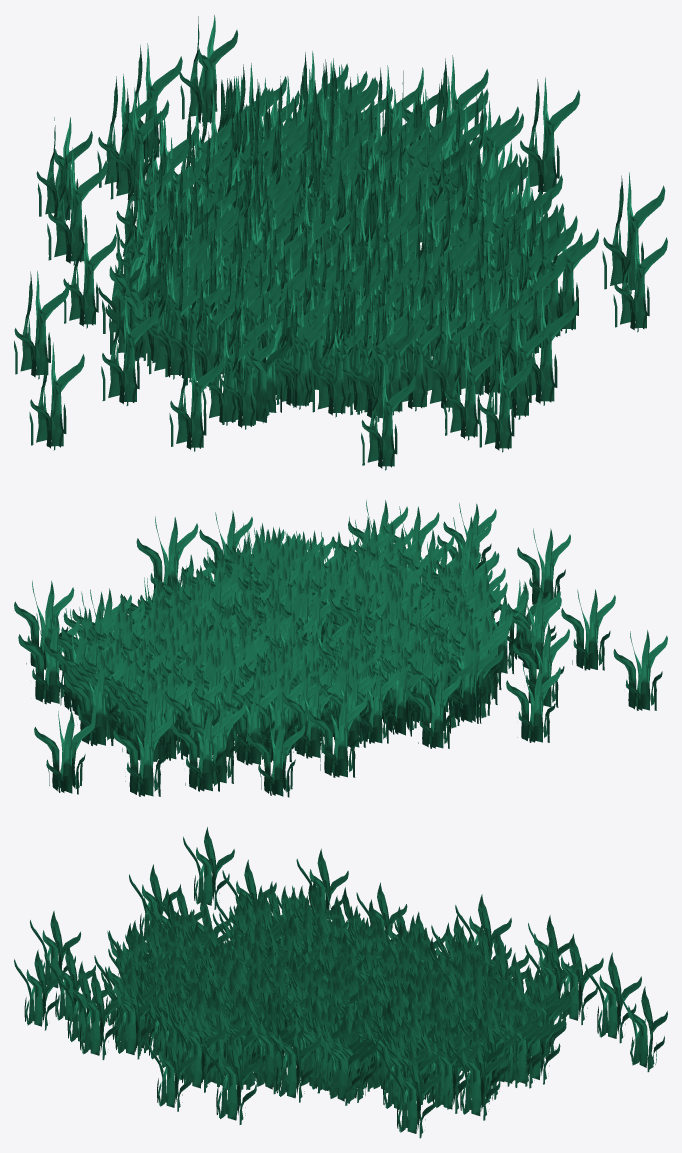
File: Grass1.fbx
The picture shows the model from 3 angles, top to bottom: view 1: azimuth 30°, elevation 25°; view 2: azimuth 150°, elevation 25°; view 3: azimuth 270°, elevation 25°; orthographic projection. The views are drawn at different scales.
Parts seen in each view (by area): view 1: single.11157, single.11336, single.10891, single.11315, single.11017, single.10773, single.11255, single.11092, single.10879, single.11090, single.10761, single.11109 (+56 smaller); view 2: single.11271, single.11157, single.11150, single.11315, single.10943, single.11156, single.11332, single.10879, single.11092, single.10773, single.10829, single.10827 (+50 smaller); view 3: single.11017, single.11332, single.11336, single.11255, single.11271, single.10982, single.10803, single.11150, single.10821, single.10773, single.11116, single.11315 (+45 smaller).
Part boxes in pixels (x1,y1,x2,y2): single.11157: (47, 147, 107, 265); single.11336: (519, 77, 580, 194); single.10891: (101, 294, 159, 405); single.11315: (179, 15, 238, 126); single.11017: (602, 172, 665, 294); single.10773: (29, 342, 84, 450); single.11255: (526, 286, 577, 405); single.11092: (169, 343, 224, 451); single.10879: (14, 271, 69, 379); single.11090: (443, 333, 498, 440); single.10761: (361, 364, 415, 470); single.11109: (478, 347, 532, 452); single.11271: (113, 707, 172, 796); single.11157: (308, 689, 367, 777); single.11150: (172, 701, 232, 791); single.11315: (34, 710, 95, 794); single.10943: (64, 655, 125, 745); single.11156: (246, 716, 305, 797); single.11332: (18, 613, 79, 704); single.10879: (506, 661, 560, 742); single.11092: (561, 589, 615, 670); single.10773: (613, 630, 667, 710); single.10829: (220, 675, 280, 765); single.10827: (407, 669, 460, 748); single.11017: (204, 1031, 262, 1124); single.11332: (448, 1027, 506, 1120); single.11336: (385, 1047, 441, 1138); single.11255: (68, 968, 124, 1059); single.11271: (585, 952, 641, 1043); single.10982: (264, 1012, 320, 1102); single.10803: (104, 970, 159, 1059); single.11150: (546, 933, 603, 1025); single.10821: (169, 1002, 226, 1092); single.10773: (183, 827, 234, 909); single.11116: (146, 1030, 197, 1111); single.11315: (621, 986, 667, 1072).
Bounding box in the file's own units: 20.28 × 22.75 × 3.36.
